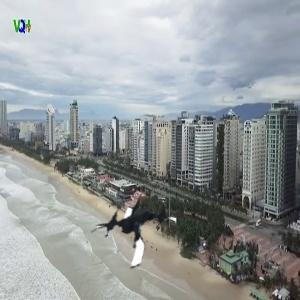drone: (89, 190, 179, 280)
